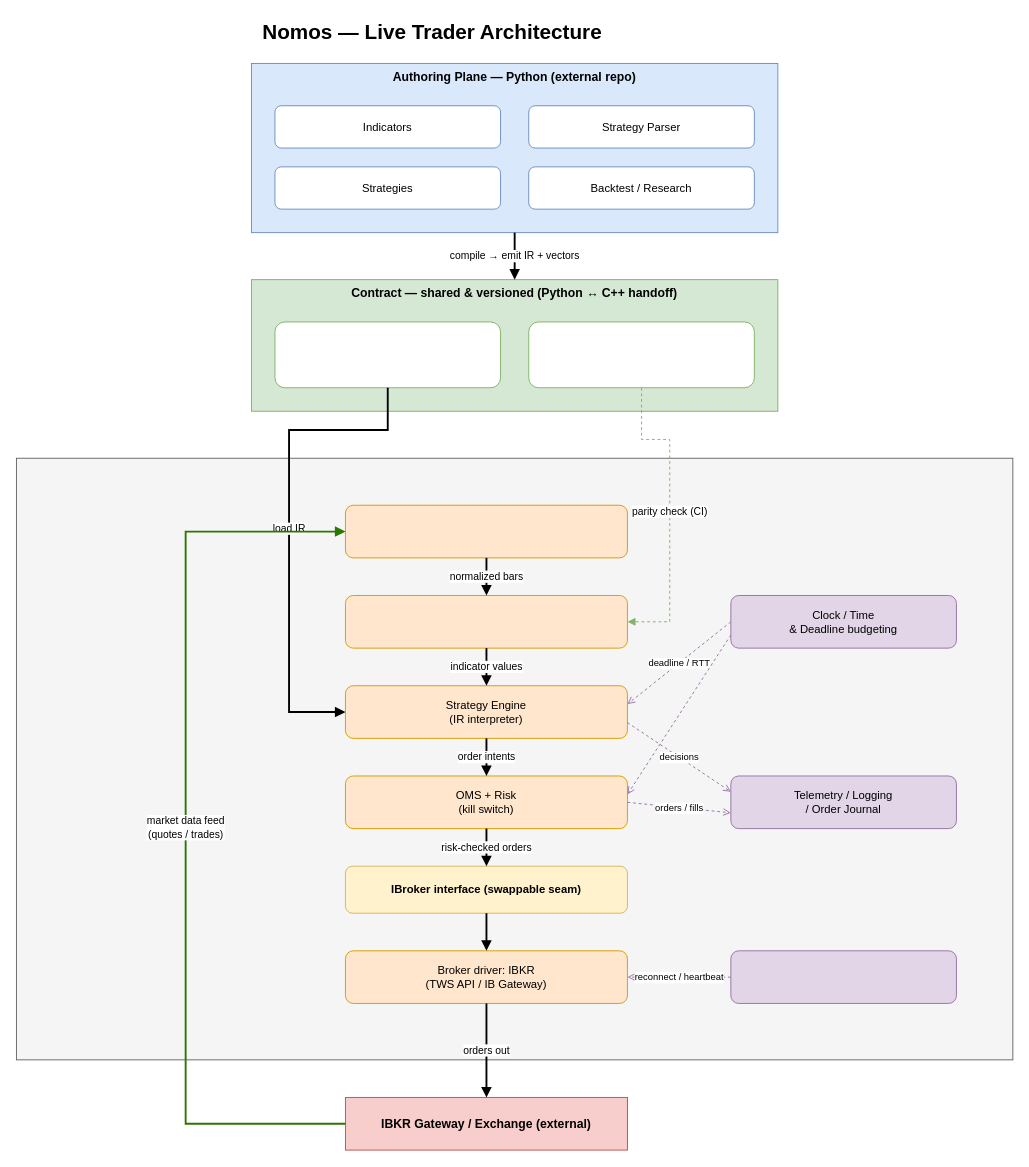
This 1029x1167 diagram has some shape labels left out. The box of each missing label's shape, as (x1, y1, x2, y2) in pixels:
Conformance test vectors: (528, 321, 754, 388)
Execution Plane — C++ (this repo): (16, 457, 1013, 1060)
Indicator library (streaming): (345, 595, 627, 648)
Market Data (feed + bar builder): (345, 504, 627, 558)
Session / Connection mgmt (reconnect · heartbeat): (730, 950, 956, 1003)
Strategy IR (FlatBuffers schema): (274, 321, 501, 388)
